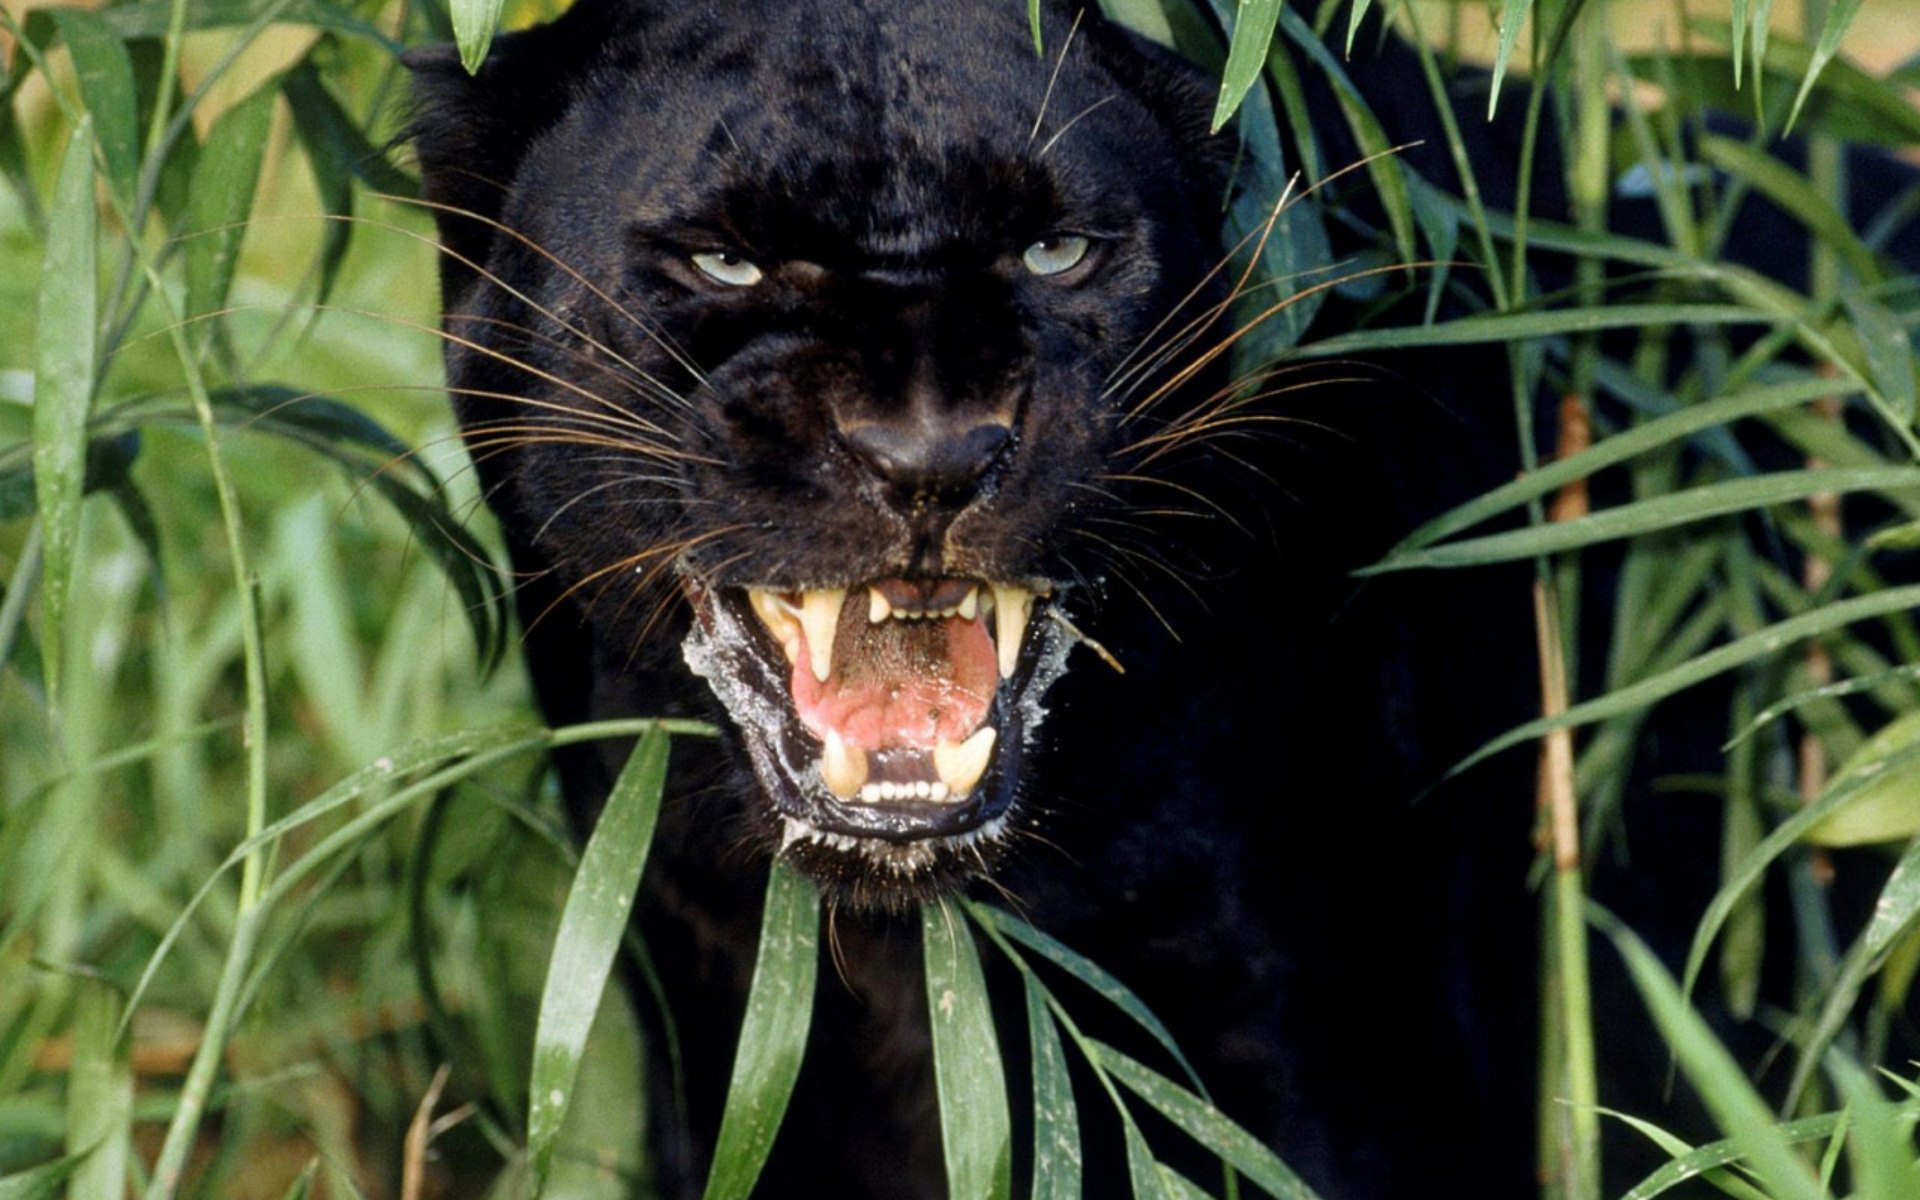panther: (358, 8, 1373, 958)
